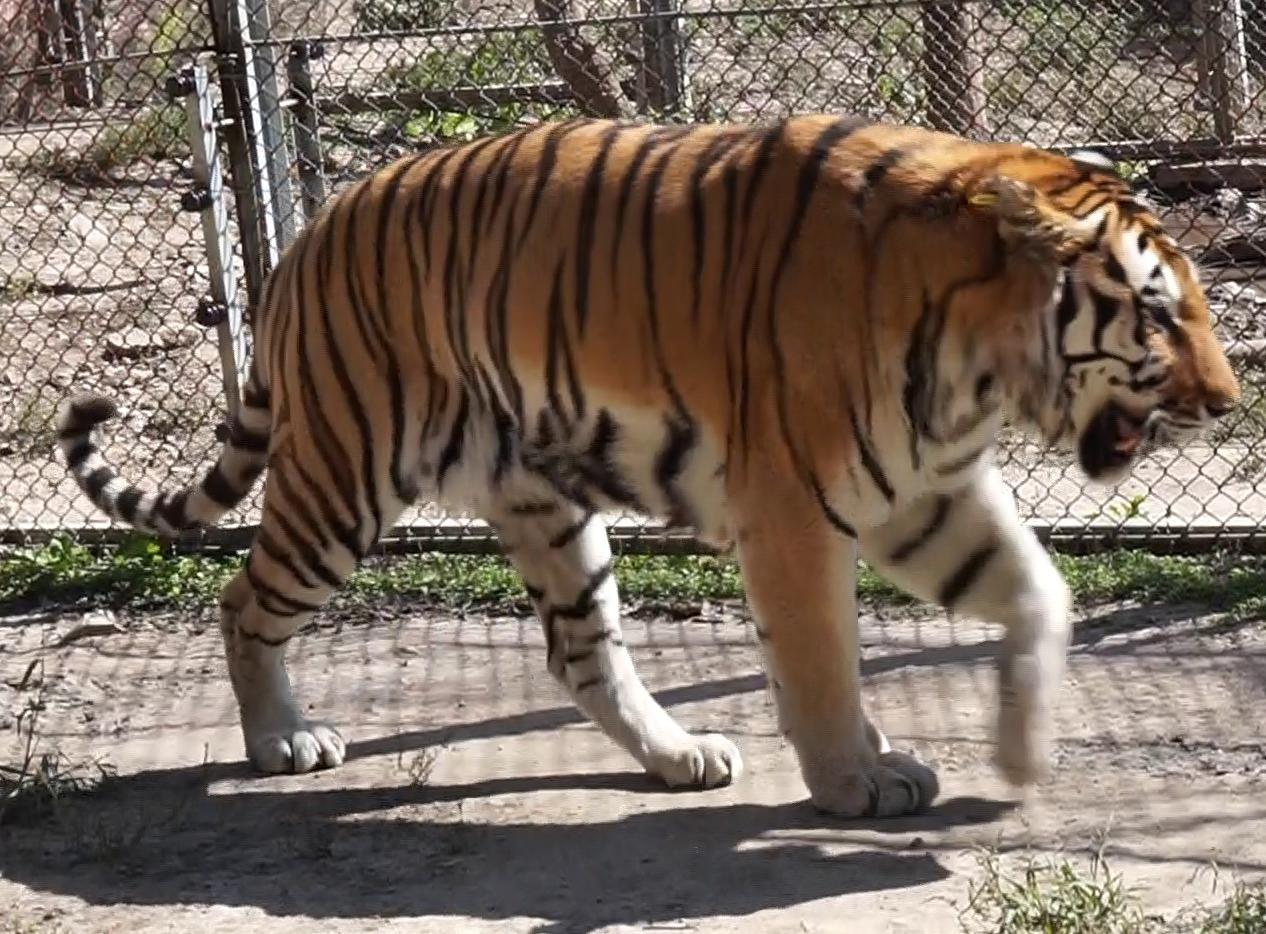tiger: (59, 115, 1239, 817)
